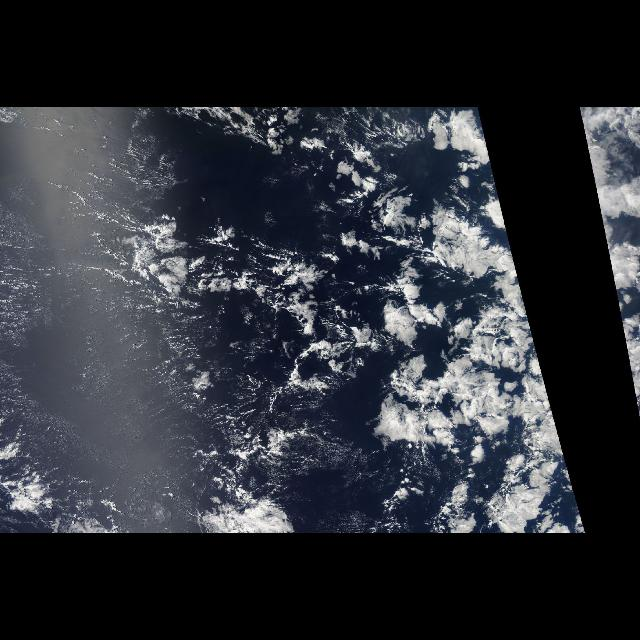Sugar: (0, 116, 334, 482)
